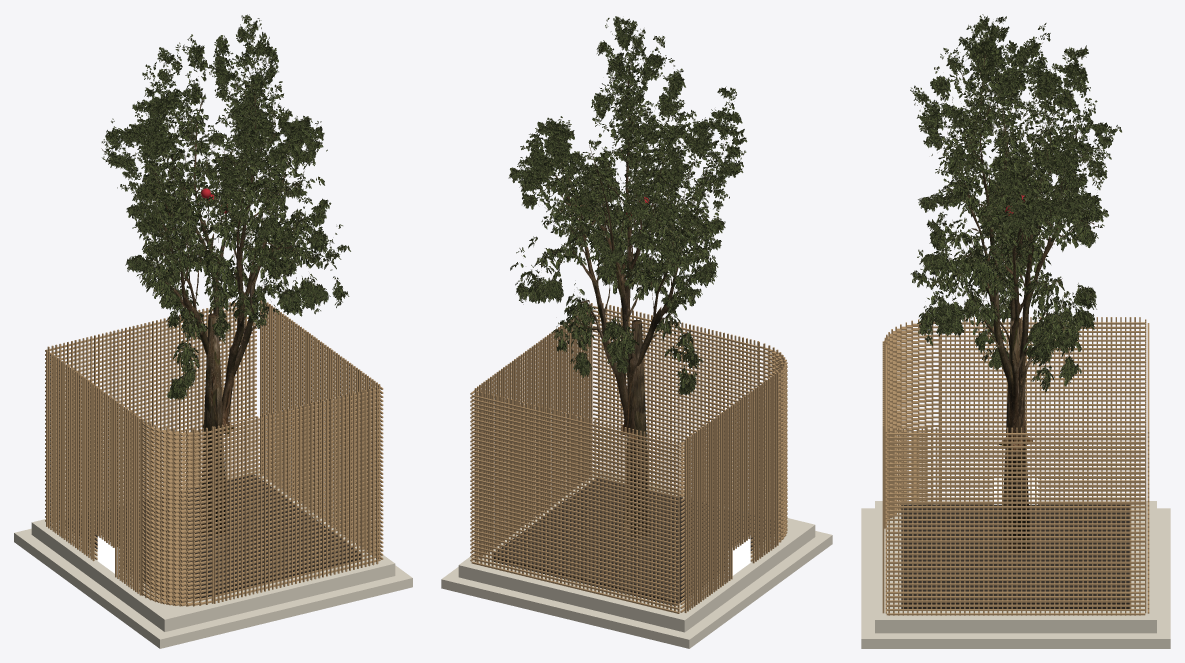
File: spring.glb
3 renders of one model, left to right at view 1: azimuth 30°, elevation 25°; view 2: azimuth 150°, elevation 25°; view 3: azimuth 270°, elevation 25°, orthographic. The views are drawn at different scales.
Parts seen in each view (by area): view 1: Spring_Mesh, SpringTree_jac, Spring_Plinth, Spring_Soil, SpringTree_Trunk; view 2: Spring_Mesh, SpringTree_jac, Spring_Plinth, Spring_Soil, SpringTree_Trunk; view 3: Spring_Mesh, SpringTree_jac, Spring_Plinth, Spring_Soil, SpringTree_Trunk.
Boxes of the visible parts, x1,y1,x2,y2 form: Spring_Mesh: (45,300,383,606); SpringTree_jac: (101,14,350,434); Spring_Plinth: (14,466,412,648); Spring_Soil: (65,474,360,602); SpringTree_Trunk: (201,313,225,535); Spring_Mesh: (470,303,787,613); SpringTree_jac: (508,16,747,441); Spring_Plinth: (441,470,832,648); Spring_Soil: (493,477,774,605); SpringTree_Trunk: (623,320,650,537); Spring_Mesh: (882,317,1149,615); SpringTree_jac: (910,14,1121,450); Spring_Plinth: (861,501,1170,648); Spring_Soil: (901,504,1129,608); SpringTree_Trunk: (1001,317,1030,552).
Size of the model in its own units: 3.4 by 7.05 by 3.4.
8 materials, 3 textured.
